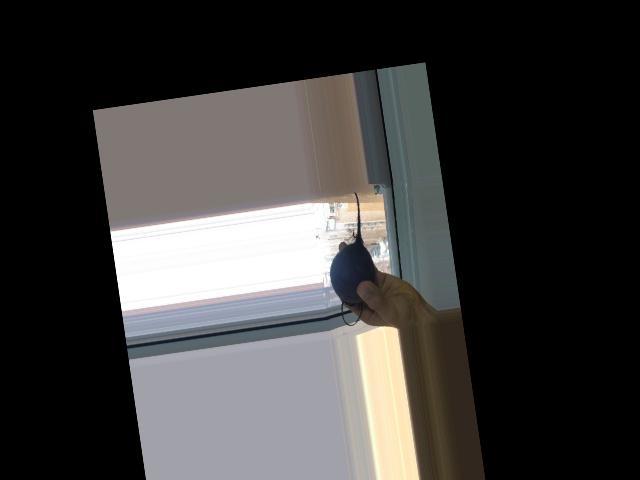beet: (318, 190, 382, 327)
